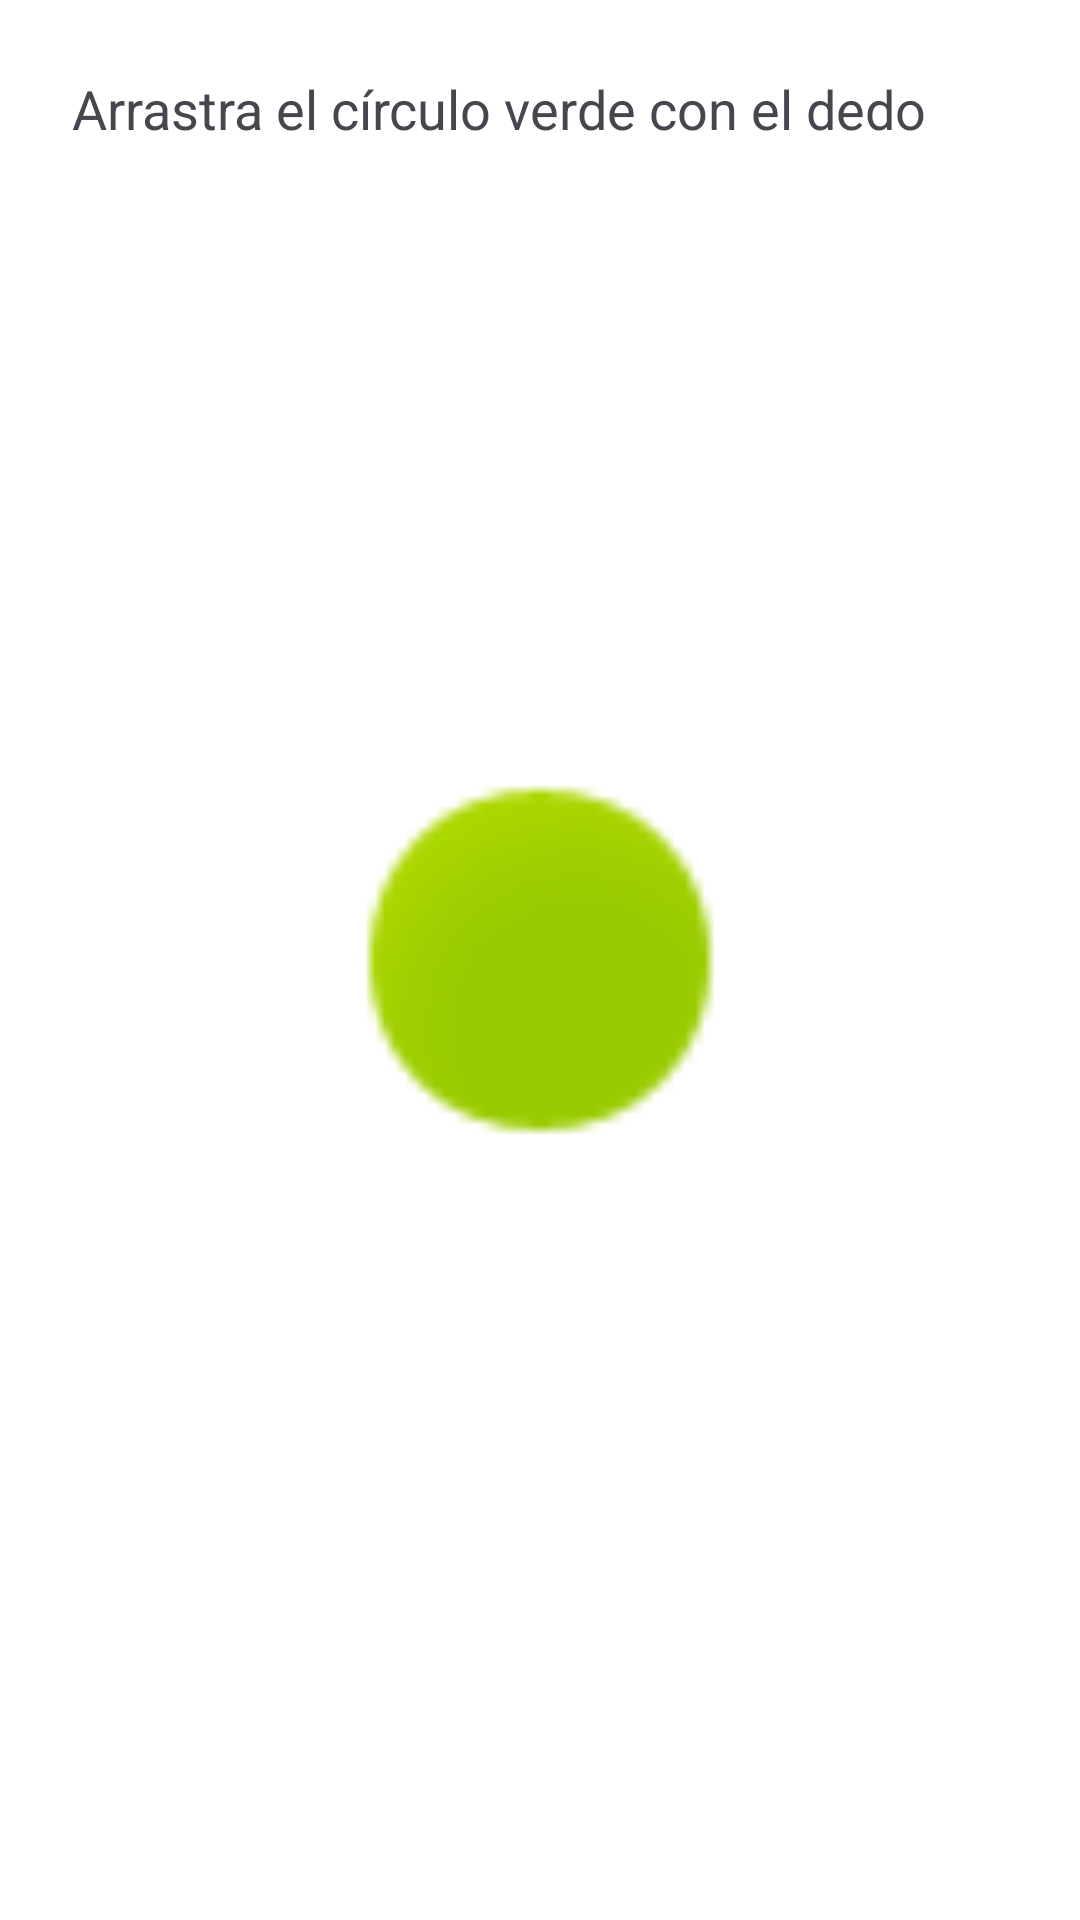

Icons on this 1080x1920 Android screen, each with its box as Rect(x1, y1, x2, y2):
presence online: Rect(366, 786, 714, 1134)
